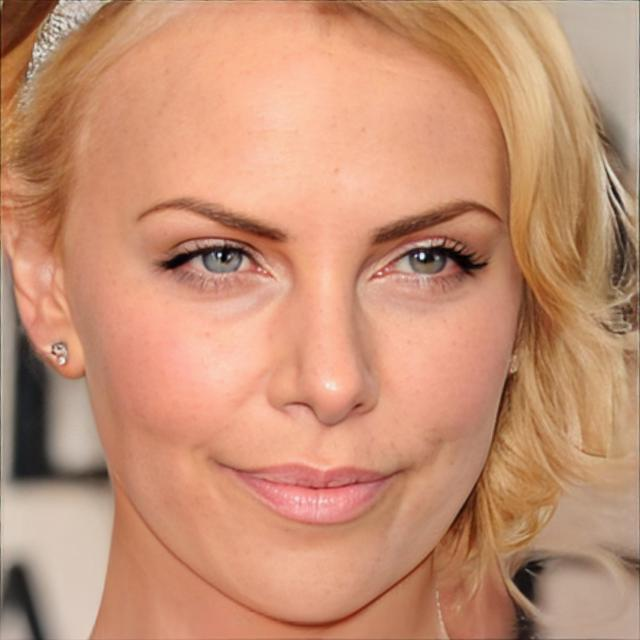content: (82, 22, 526, 626)
